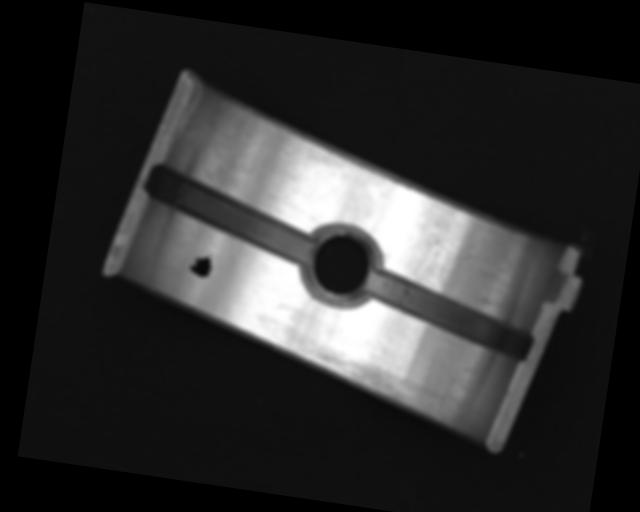blot: (186, 249, 216, 280)
bruise: (456, 240, 480, 263), (278, 145, 293, 162)
gap: (140, 165, 322, 266), (359, 269, 541, 361)
hole: (296, 219, 386, 314)
nick: (409, 221, 443, 284)
scratch: (293, 342, 452, 422)
